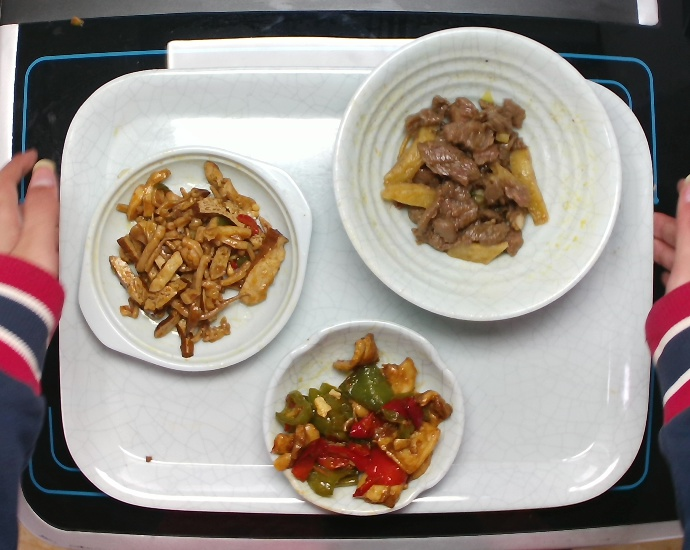JYsf-Ao_Yuan_Wan: (259, 316, 469, 524)
JYsf-Shuang_Er_Pan: (75, 144, 317, 379)
JYsf-Xiao_Tang_Wan: (323, 19, 635, 326)
